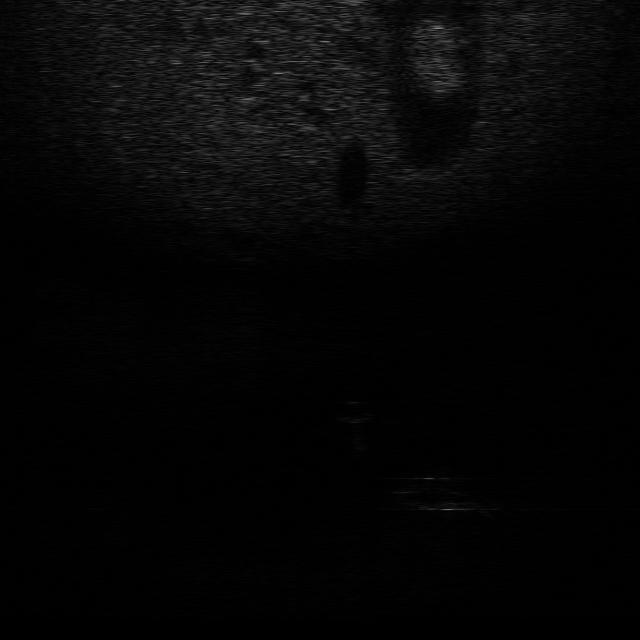ball: (330, 397, 381, 426)
tyre: (385, 472, 483, 513)
